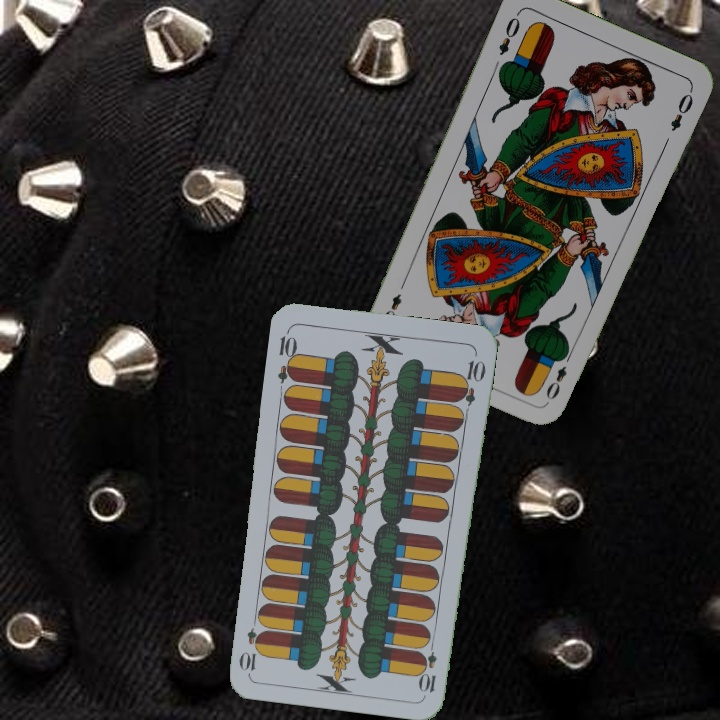E10: (274, 326, 301, 385), (418, 636, 440, 695)
EO: (542, 347, 575, 403), (494, 8, 523, 58)
